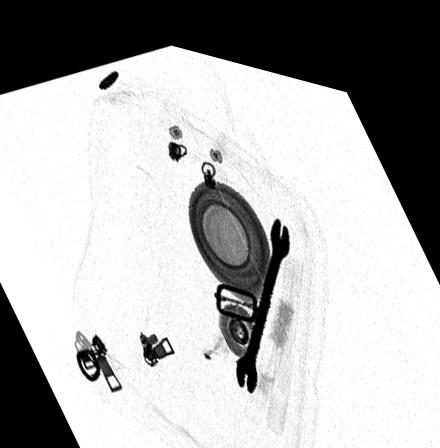Wrench: (235, 203, 289, 380)
